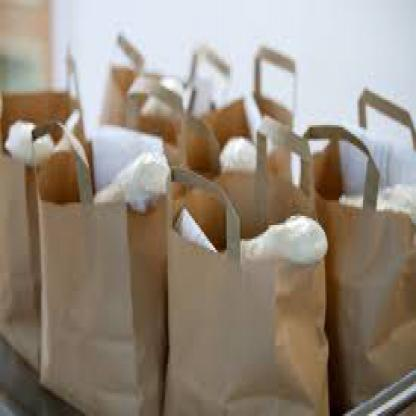paquete: (160, 148, 333, 414), (30, 138, 178, 414), (304, 73, 415, 402)
